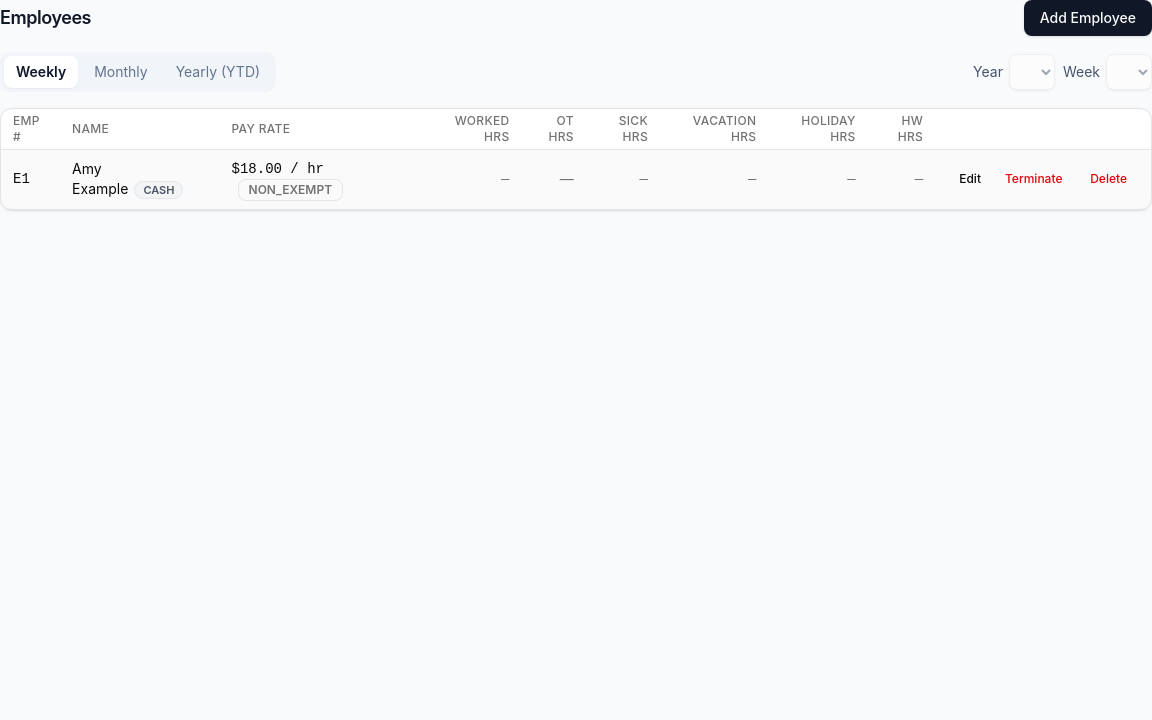
EmployeesPage › happy path: submits the mapped payload, refetches, toasts
Expected: the text "Amy Example" is shown, [72, 160, 128, 197]
Click the button "Add Employee".
click(1088, 18)  # box [1024, 0, 1151, 36]
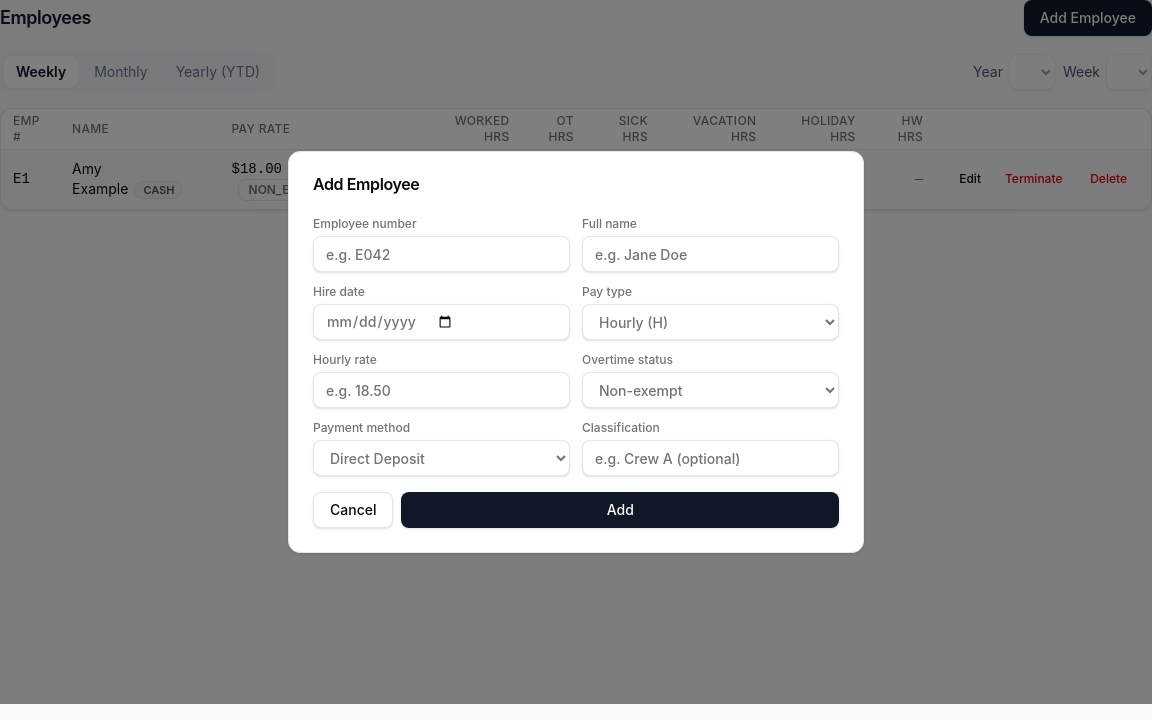
Type "E2" into the field labelled "Employee number".
click(442, 254); type("E2")  # box [313, 236, 570, 272]
Type "Bob New" into the field labelled "Full name".
click(710, 254); type("Bob New")  # box [582, 236, 839, 272]
Type "2026-10-01" into the date field labelled "Hire date".
click(442, 322); type("2026-10-01")  # box [313, 304, 570, 340]
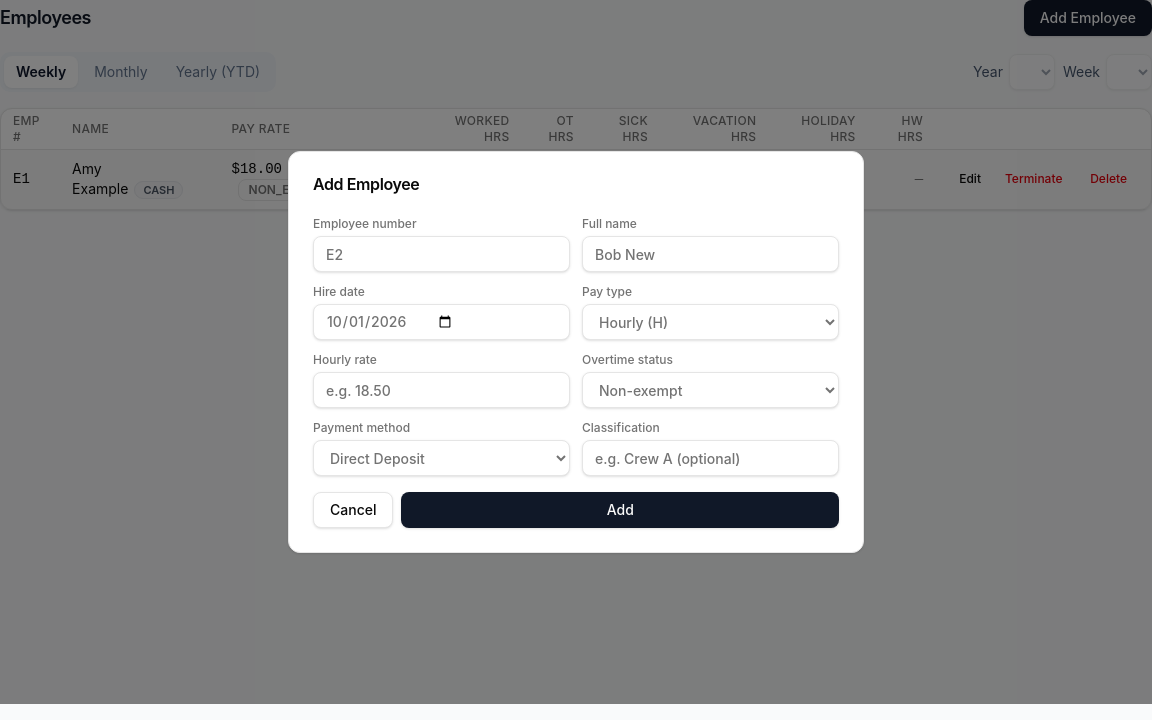
Select "Salary (S)" in the dropdown labelled "Pay type" at [710, 322], box [582, 304, 839, 340]
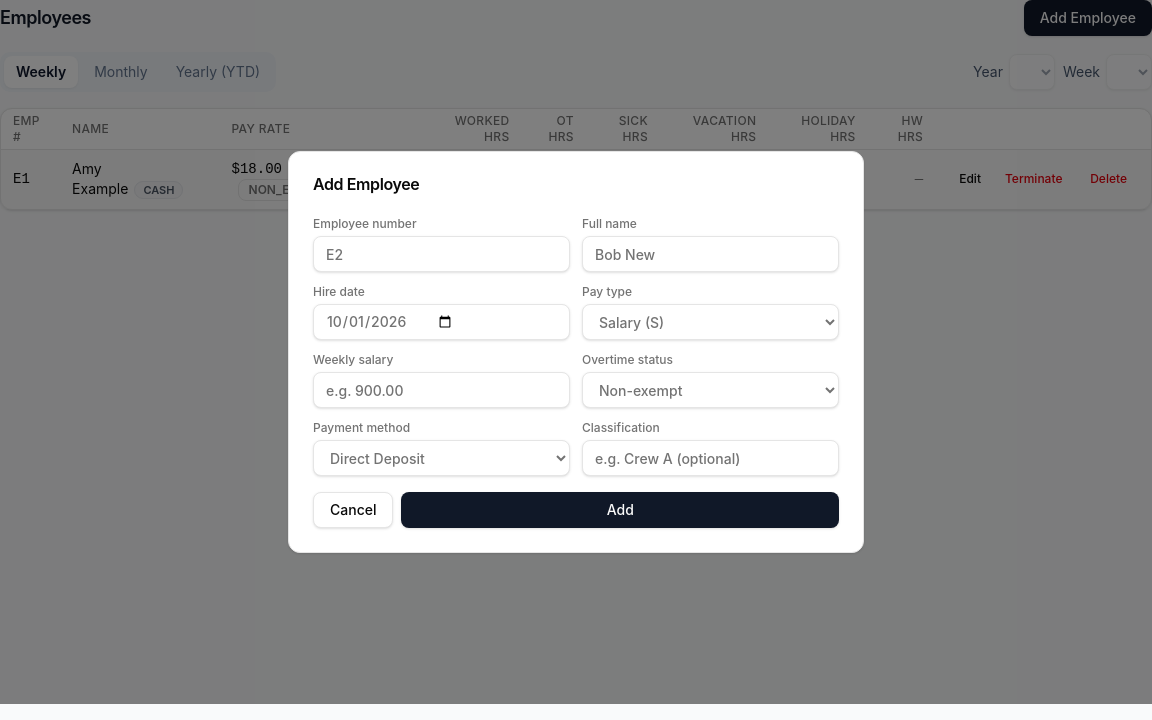
Type "900" into the field named "Rate".
click(442, 390); type("900")  # box [313, 372, 570, 408]
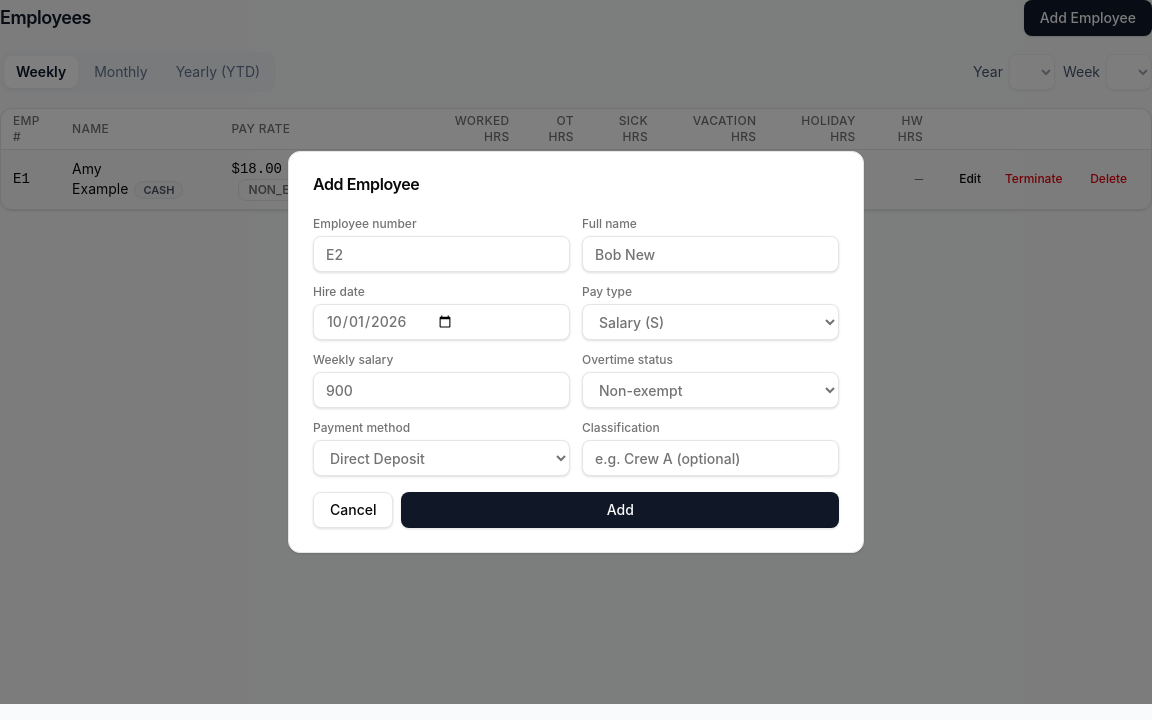
Select "Cash" in the dropdown labelled "Payment method" at [442, 458], box [313, 440, 570, 476]
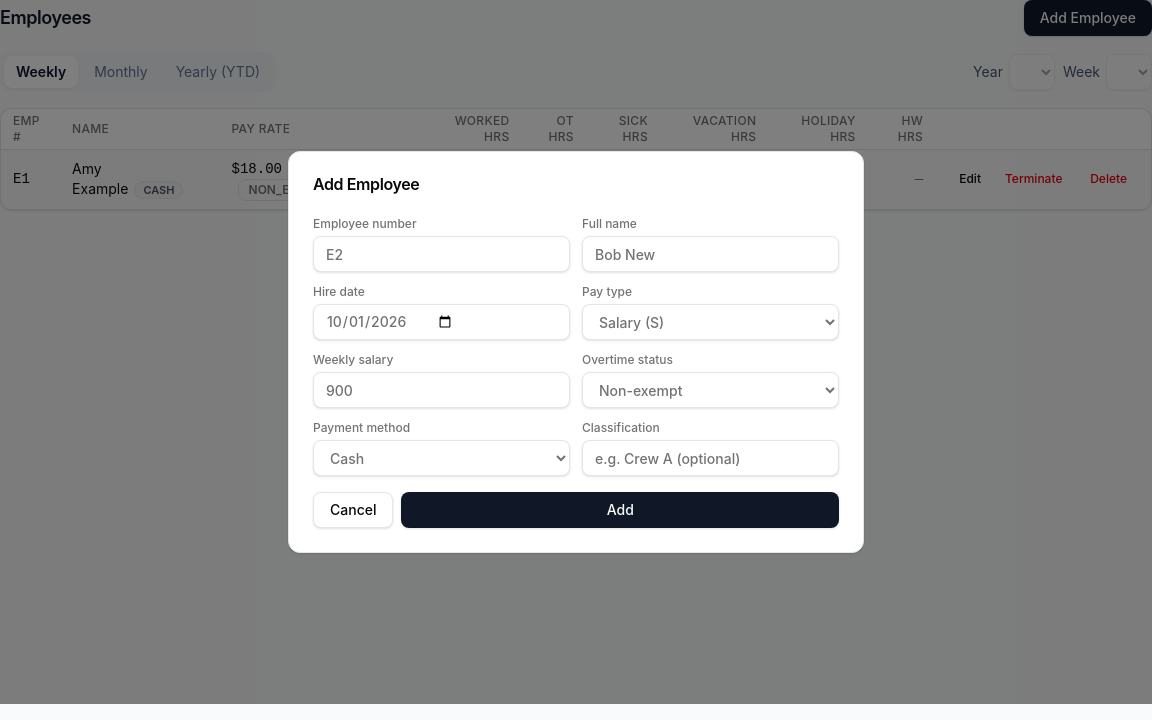
Click the button "Add".
click(620, 510)  # box [402, 492, 839, 528]
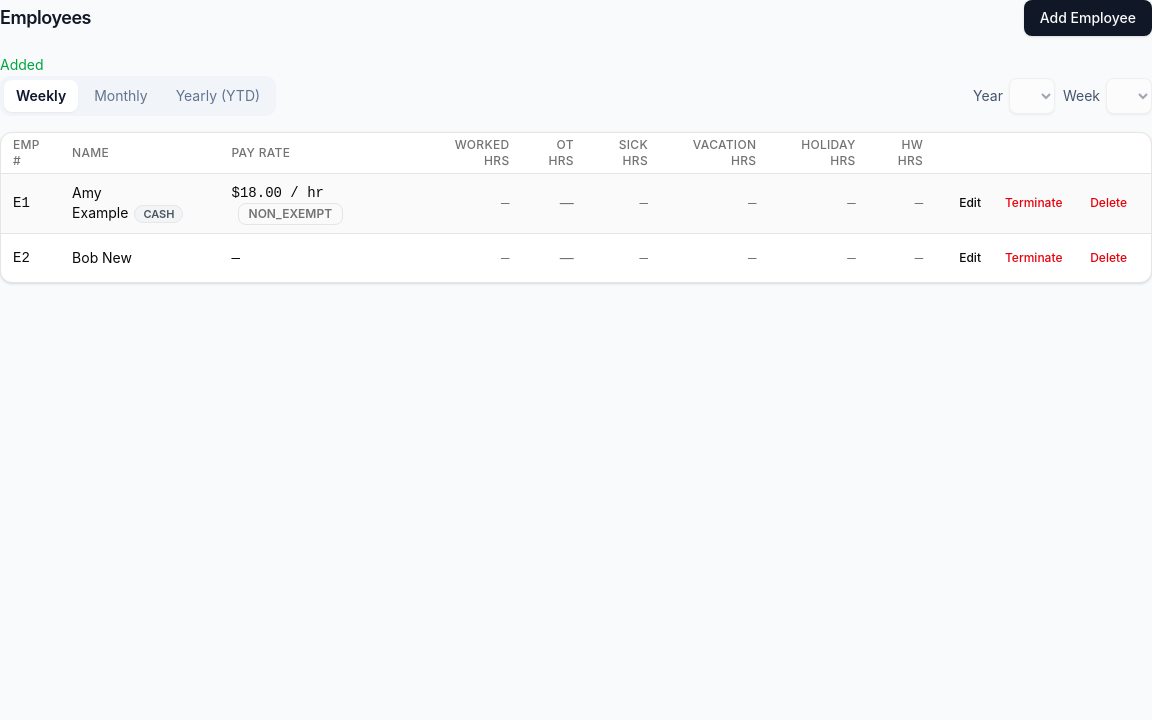
Expected: the text "Amy Example" shows "CASH", [143, 207, 174, 221]
Result: the text "Added" is shown at [0, 56, 44, 73]
Result: the text "Bob New" is shown at [60, 233, 220, 282]
